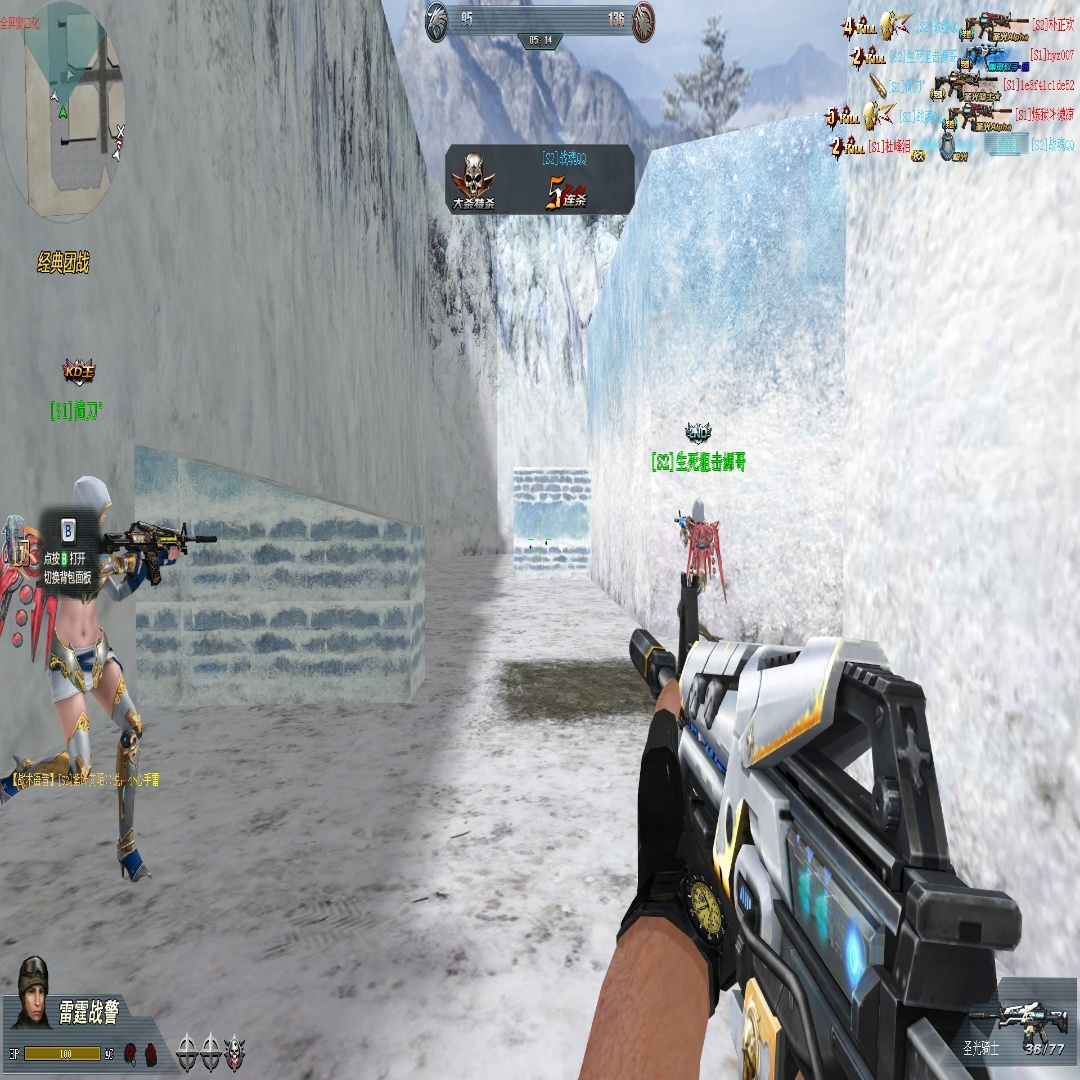ct: (46, 477, 138, 882)
